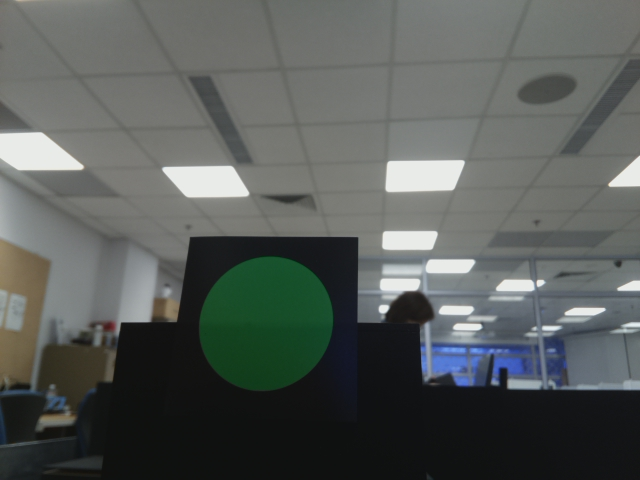go: (194, 252, 338, 391)
